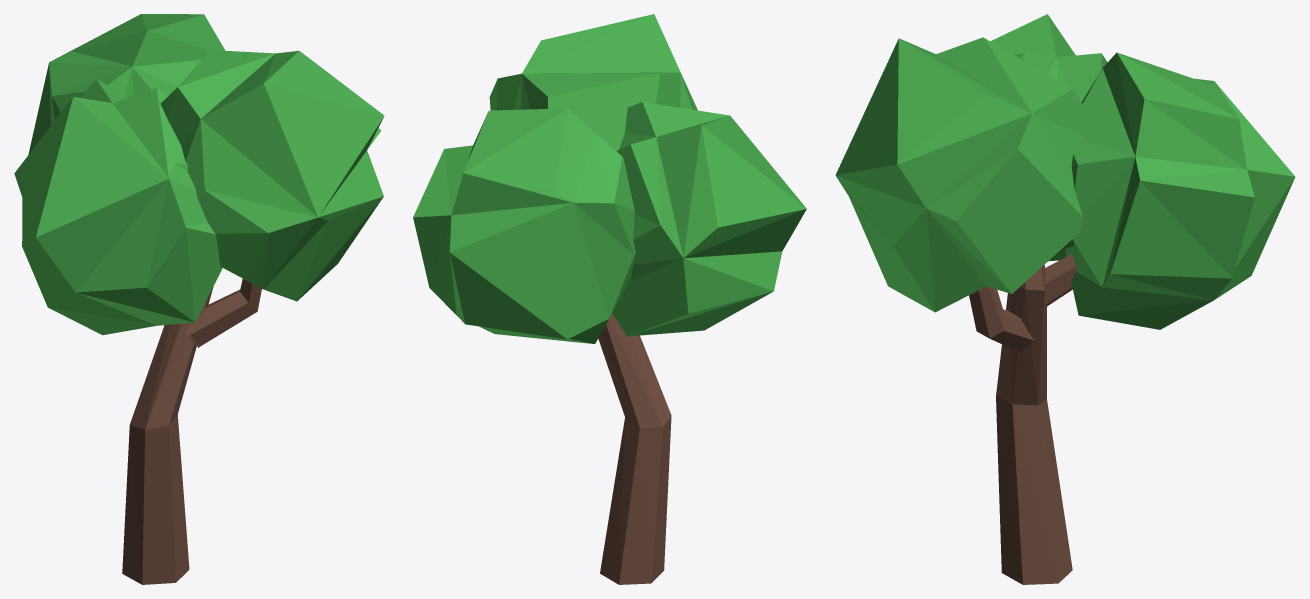
Rendered from tree_0.glb.
The picture shows the model from 3 angles, left to right: view 1: azimuth 30°, elevation 25°; view 2: azimuth 150°, elevation 25°; view 3: azimuth 270°, elevation 25°; orthographic projection. The views are drawn at different scales.
Parts seen in each view (by area): view 1: group1573540807; view 2: group1573540807; view 3: group1573540807.
Part boxes in pixels (box(x1,y1,x2,y2)): group1573540807: box(14, 14, 384, 584); group1573540807: box(413, 14, 806, 584); group1573540807: box(835, 14, 1295, 584).
Bounding box in the file's own units: 0.2576 × 0.3823 × 0.2869.
